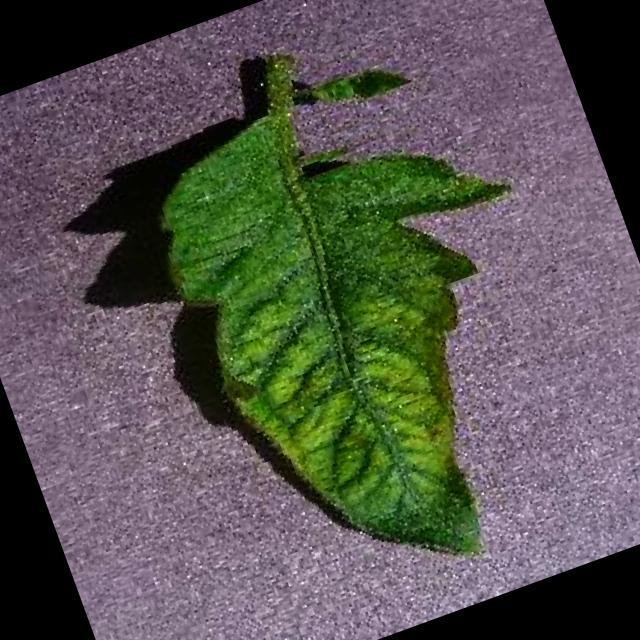Tomato mosaic virus leaf: (123, 48, 624, 620)
